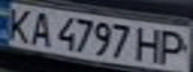4: (51, 15, 78, 52)
7: (109, 21, 136, 60), (72, 16, 93, 54)
9: (90, 19, 115, 56)
A: (24, 10, 57, 47)
H: (133, 25, 169, 63)
K: (0, 6, 39, 44)
P: (154, 28, 193, 65)
